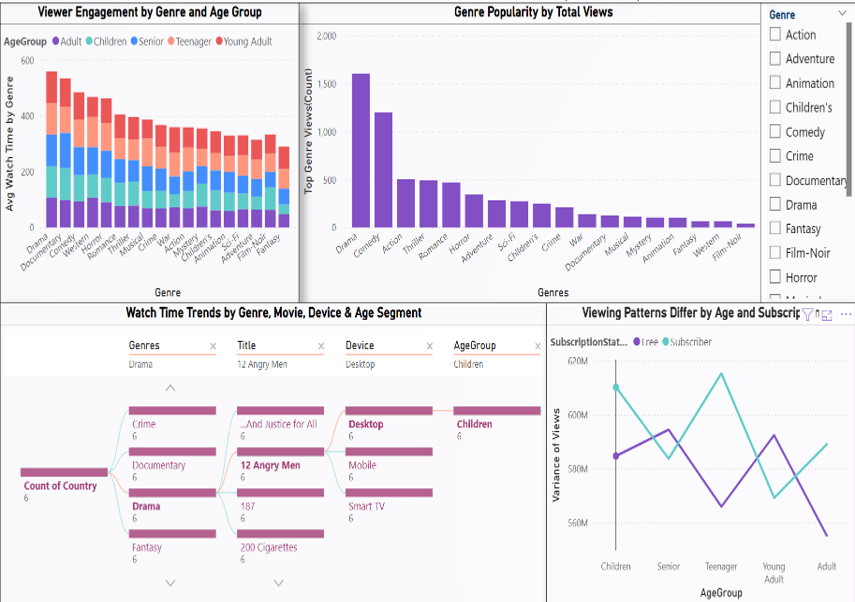

The dashboard page shown, as its layout file describes it:
{"tool":"powerbi","page":{"name":"Viewer Engagement","canvas":[1280,720],"ordinal":1},"visuals":[{"type":"clusteredColumnChart","title":"Genre Popularity by Total Views","fields":{"Category":["movies_genere.Genres"],"Y":["movies_genere.Top Genre Views"]},"box":[447.4,0,702.2,360.1],"z":0},{"type":"columnChart","title":"Viewer Engagement by Genre and Age Group","fields":{"Category":["UserGenreBridge.Genre"],"Y":["UserGenreBridge.Avg Watch Time by Genre"],"Series":["Users_cleaned.AgeGroup"]},"box":[0,0,447.4,360.1],"z":1000},{"type":"decompositionTreeVisual","title":"Watch Time Trends by Genre, Movie, Device & Age Segment","fields":{"ExplainBy":["movies_genere.Genres","movies_cleaned.Title","Users_cleaned.Device","Users_cleaned.AgeGroup","Users_cleaned.TotalWatchTime"],"Analyze":["Count(Users_cleaned.Country)"]},"box":[0,359.7,818.2,359.7],"z":2000},{"type":"slicer","fields":{"Values":["UserGenreBridge.Genre"]},"box":[1137.6,0,142.4,360.1],"z":3000},{"type":"lineChart","title":"Viewing Patterns Differ by Age and Subscription","fields":{"Series":["Users_cleaned.SubscriptionStatus"],"Y":["Sum(movies_genere.Views)"],"Category":["Users_cleaned.AgeGroup"]},"box":[818.2,359.7,461.7,359.7],"z":4000}]}

Visuals, with their boxes on the page's 1280x720 design canvas (x1, y1, x2, y2). These are canvas units, not pixel positions in the 855x602 screenshot, which may show the page scaled, cropped or inside an application window:
"Genre Popularity by Total Views" clusteredColumnChart: [447, 0, 1150, 360]
"Viewer Engagement by Genre and Age Group" columnChart: [0, 0, 447, 360]
"Watch Time Trends by Genre, Movie, Device & Age Segment" decompositionTreeVisual: [0, 360, 818, 719]
slicer - UserGenreBridge.Genre: [1138, 0, 1280, 360]
"Viewing Patterns Differ by Age and Subscription" lineChart: [818, 360, 1280, 719]
